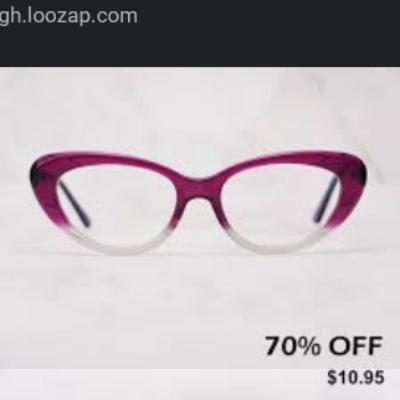glasses: (22, 144, 370, 271)
